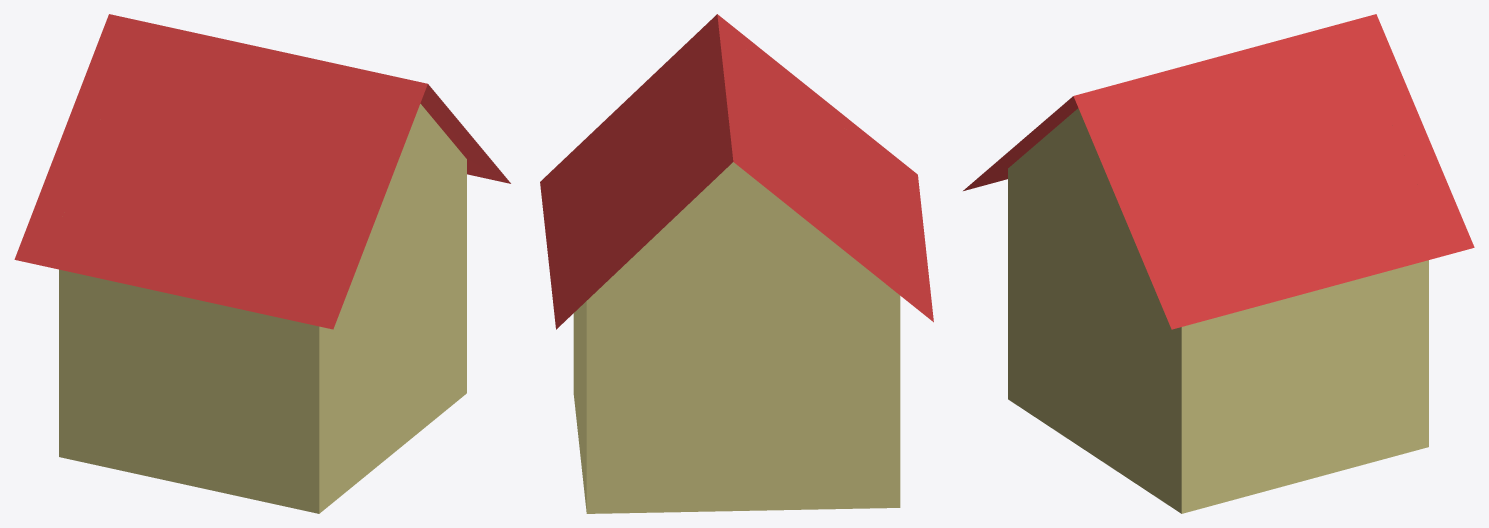
3 views of the same model, side by side, from view 1: azimuth 30°, elevation 25°; view 2: azimuth 150°, elevation 25°; view 3: azimuth 270°, elevation 25° (orthographic). The views are drawn at different scales.
Size of the model in its own units: 15.78 by 15.52 by 12.44.
